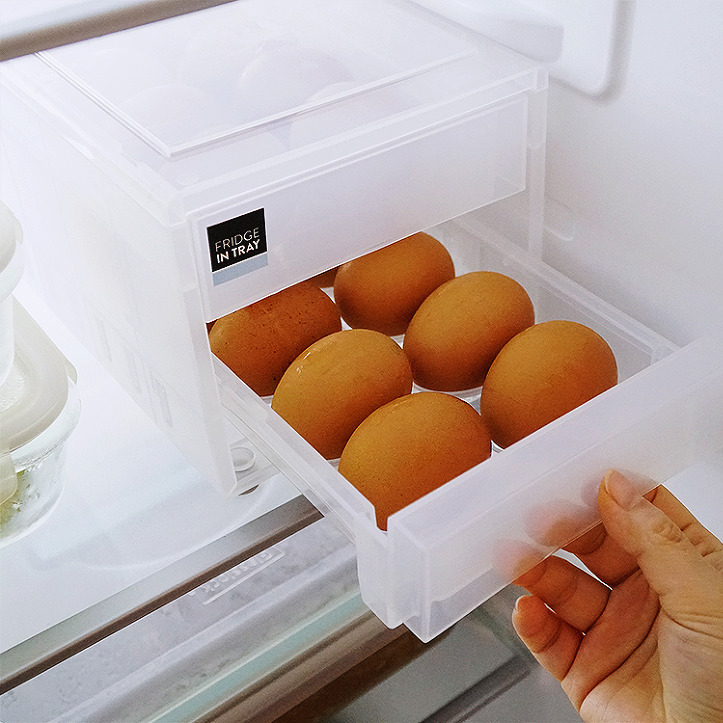egg: (209, 223, 625, 519)
